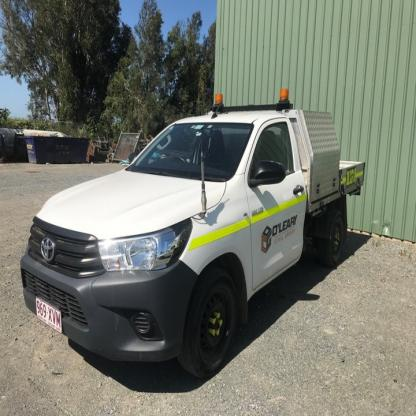light_vehicle: (15, 99, 373, 374)
